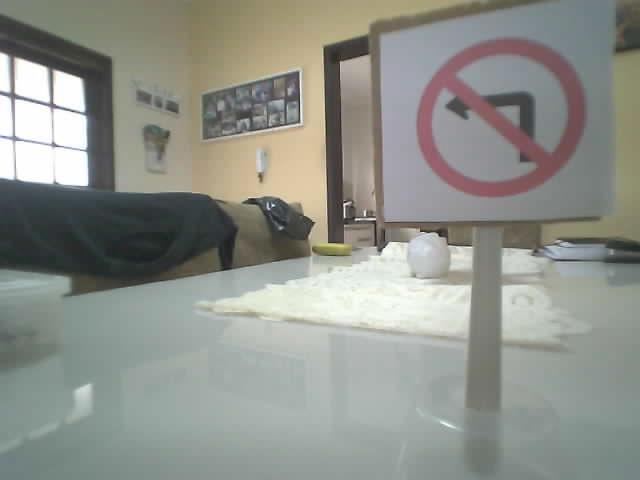R-4a_proibido-esquerda: (414, 36, 585, 198)
